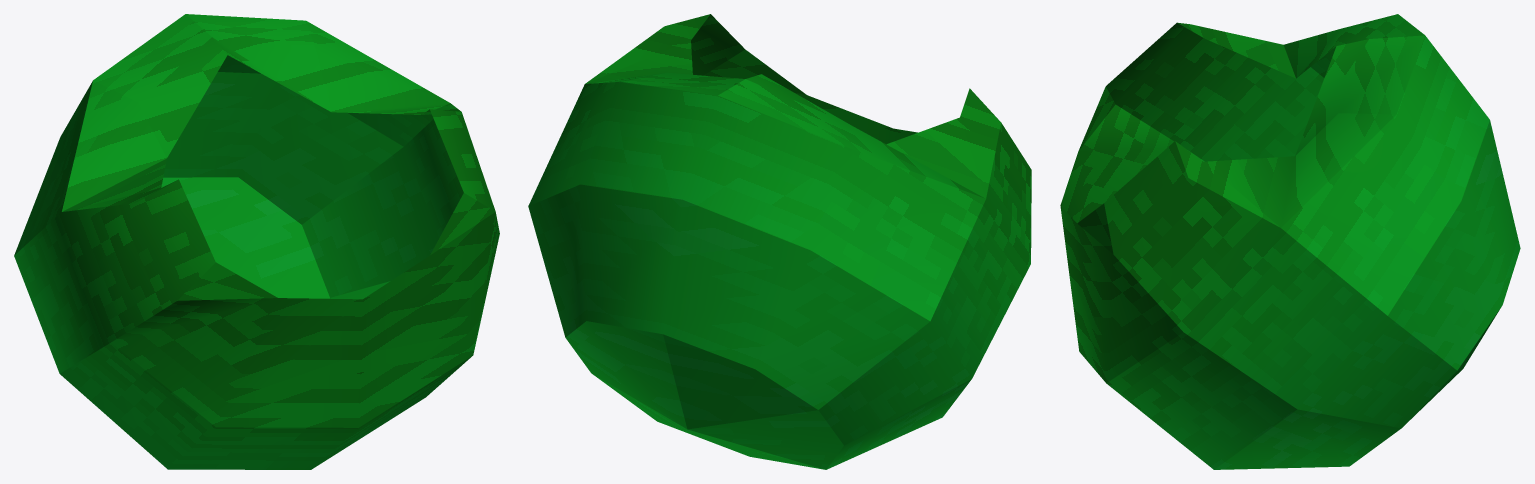
Rendered from NateAfro.fbx.
The picture shows the model from 3 angles, left to right: view 1: azimuth 30°, elevation 25°; view 2: azimuth 150°, elevation 25°; view 3: azimuth 270°, elevation 25°; orthographic projection. The views are drawn at different scales.
Parts seen in each view (by area): view 1: Nate; view 2: Nate; view 3: Nate.
Part boxes in pixels (x1,y1,x2,y2): Nate: [14, 14, 499, 469]; Nate: [528, 14, 1031, 469]; Nate: [1060, 14, 1520, 469].
Bounding box in the file's own units: 1354 × 1258 × 1300.
Materials: 1 (1 with a texture image).
